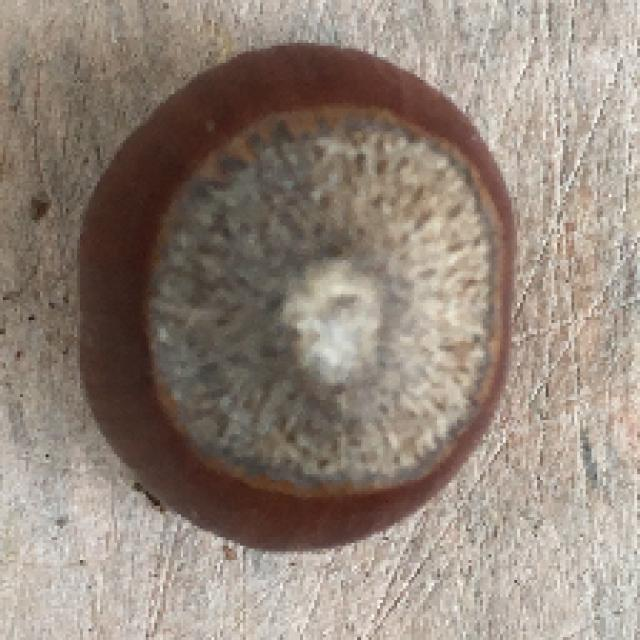damagedHazelnut: (65, 39, 518, 565)
